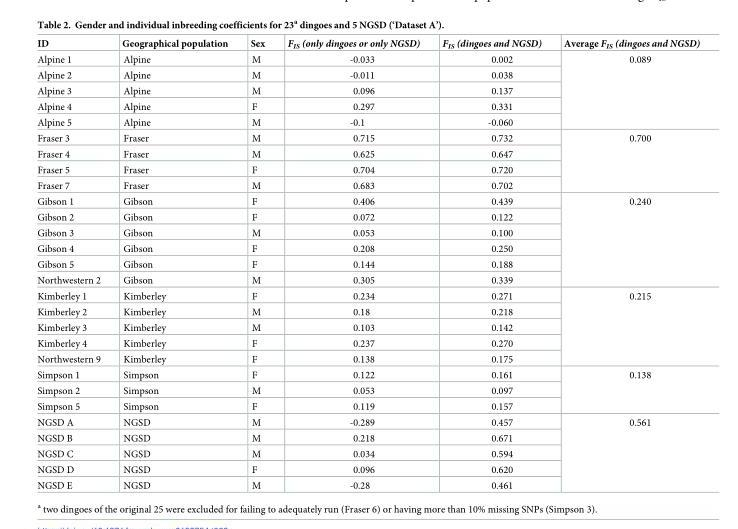table: (36, 36, 699, 490)
table column: (275, 36, 430, 490), (551, 36, 699, 490), (110, 36, 238, 490), (430, 36, 551, 490), (36, 36, 110, 490), (238, 36, 275, 490)
table column header: (36, 36, 699, 52)
table row: (36, 36, 699, 52), (36, 82, 699, 98), (36, 98, 699, 114), (36, 114, 699, 130), (36, 145, 699, 161), (36, 161, 699, 177), (36, 177, 699, 193), (36, 193, 699, 209), (36, 224, 699, 240), (36, 240, 699, 256), (36, 256, 699, 272), (36, 287, 699, 303), (36, 303, 699, 319), (36, 319, 699, 335), (36, 335, 699, 351), (36, 366, 699, 382), (36, 382, 699, 398), (36, 398, 699, 414), (36, 414, 699, 430), (36, 445, 699, 461), (36, 461, 699, 477), (36, 52, 699, 67), (36, 67, 699, 82), (36, 130, 699, 145), (36, 209, 699, 224), (36, 272, 699, 287), (36, 351, 699, 366), (36, 430, 699, 445), (36, 477, 699, 490)
table spanning cell: (551, 193, 699, 287), (551, 287, 699, 366), (551, 52, 699, 130), (551, 414, 699, 490), (551, 130, 699, 193), (551, 366, 699, 414)
